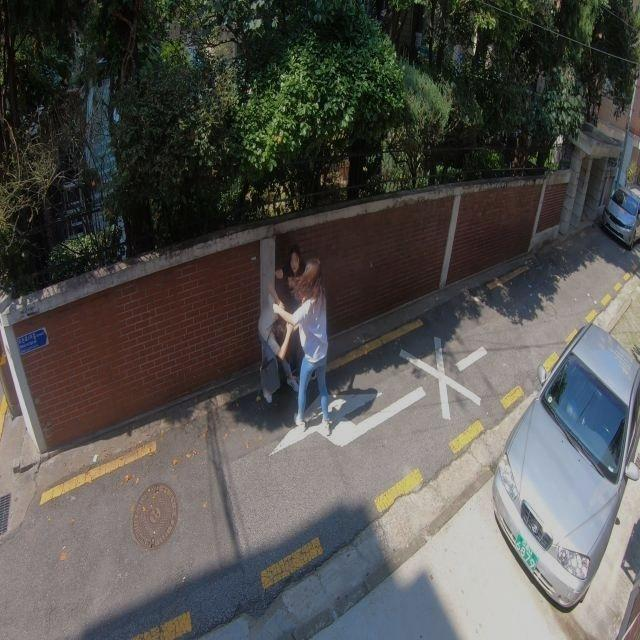fight: (260, 245, 330, 432)
